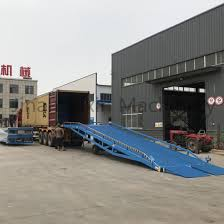Yard Ramp: (58, 121, 224, 185)
